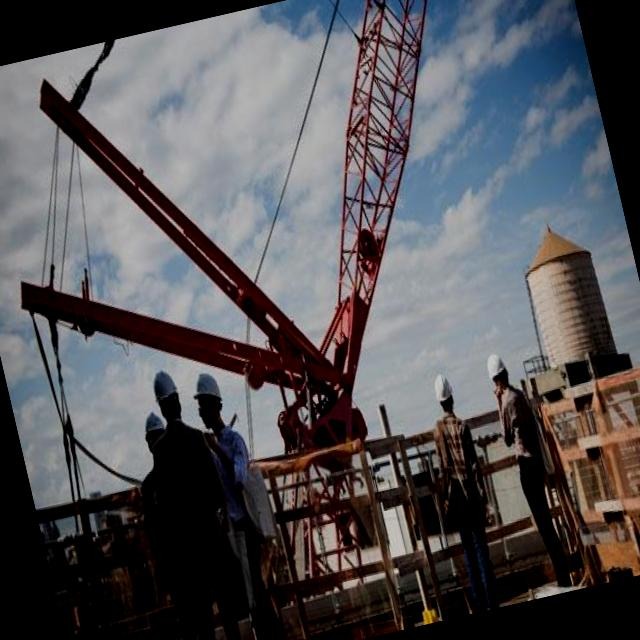helmet: (182, 360, 230, 414), (143, 366, 180, 410), (478, 344, 514, 388), (428, 366, 458, 408)
